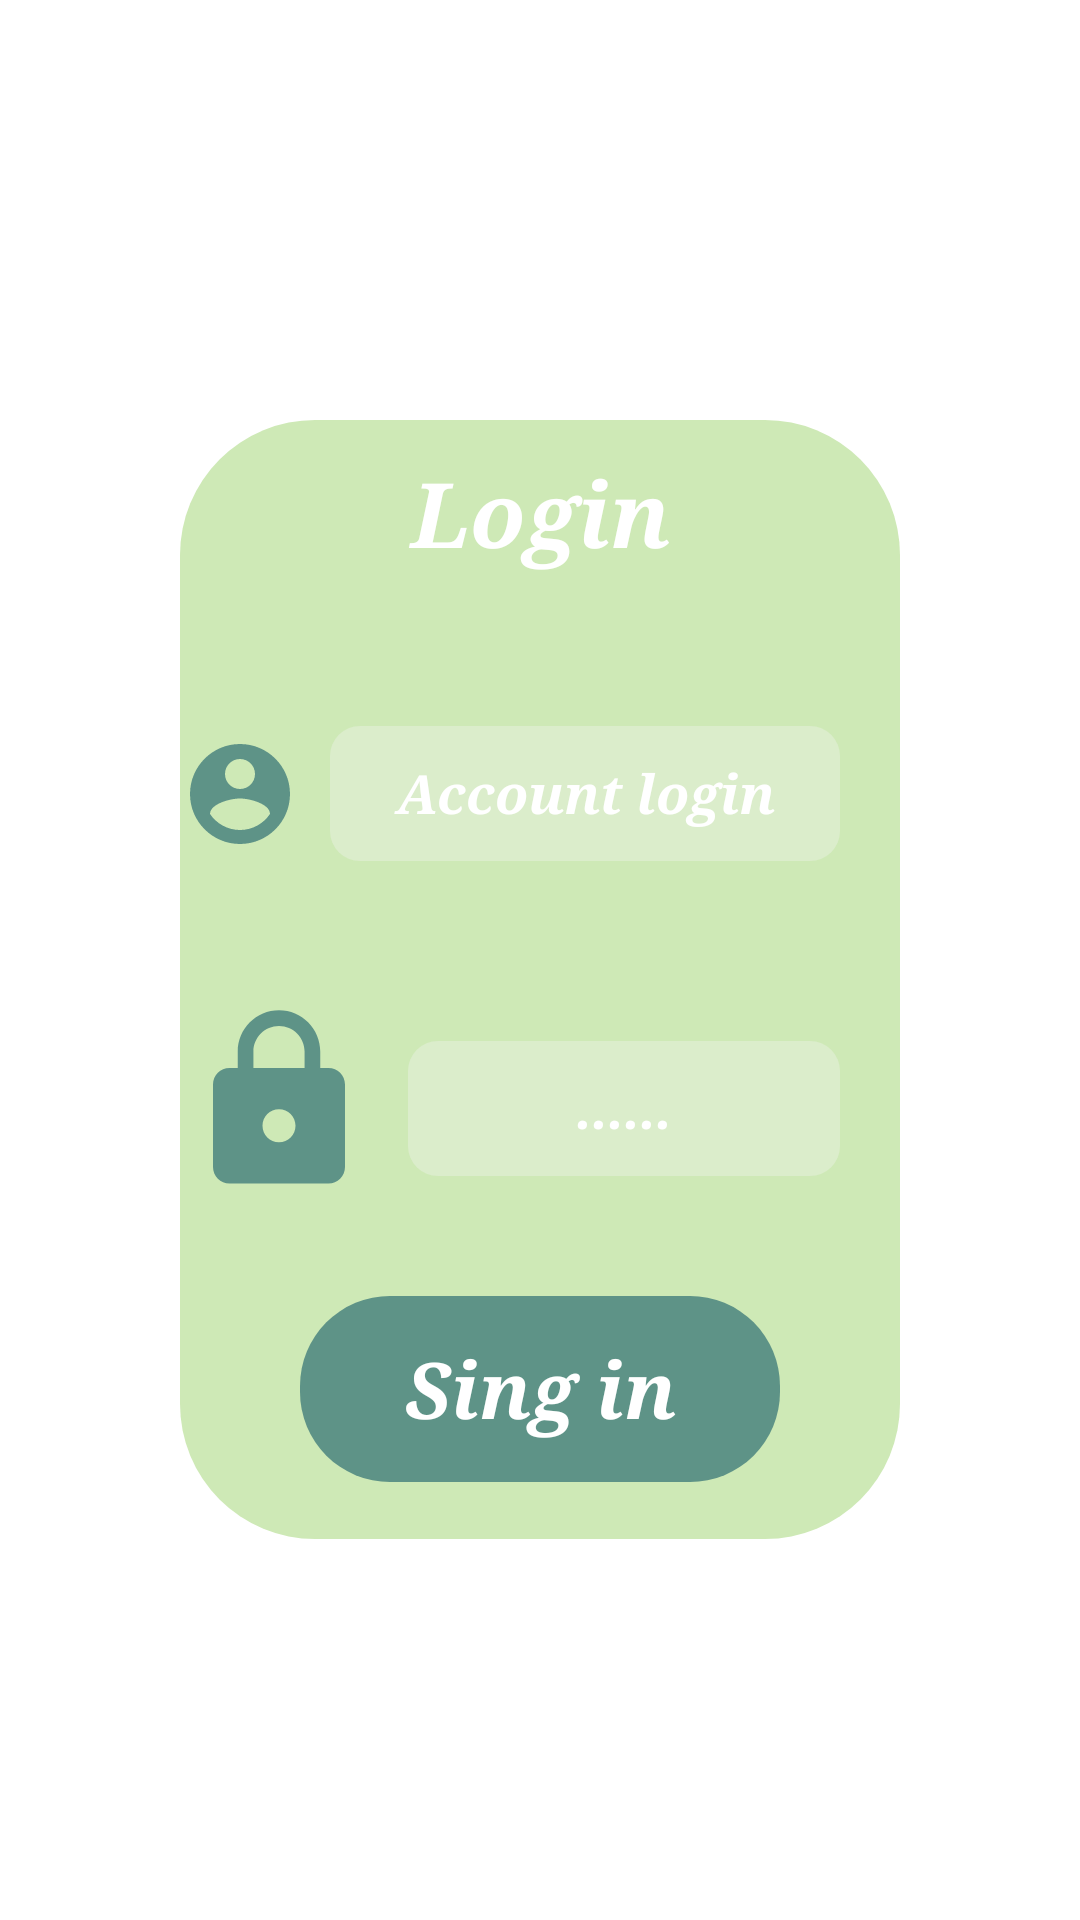

Where icons sit on this 1080*1920 app screen, as [x1, y1, x2, y2]:
account circle: [190, 744, 290, 844]
lock: [213, 1010, 345, 1184]
